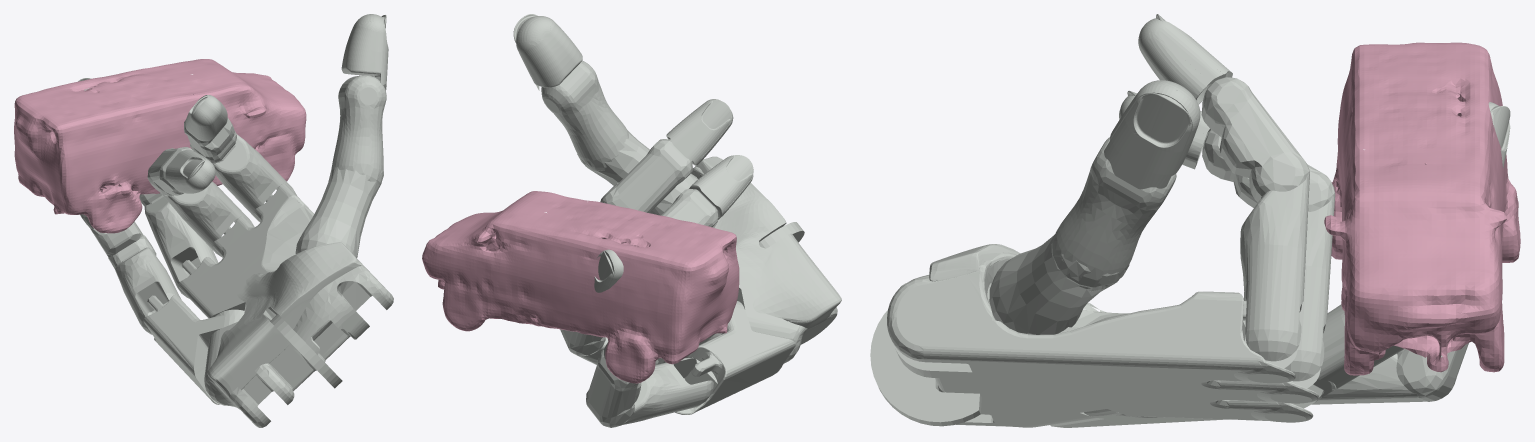
3 views of the same model, side by side, from view 1: azimuth 30°, elevation 25°; view 2: azimuth 150°, elevation 25°; view 3: azimuth 270°, elevation 25° (orthographic). The views are drawn at different scales.
Visible parts, largest first — view 1: hand, world; view 2: hand, world; view 3: hand, world.
Part boxes in pixels (box(x1,y1,x2,y2)): hand: box(78, 14, 393, 427); world: box(14, 59, 306, 233); hand: box(513, 14, 841, 427); world: box(422, 191, 739, 383); hand: box(870, 14, 1510, 427); world: box(1324, 42, 1520, 375).
Bounding box in the file's own units: 0.1347 × 0.1463 × 0.1788.
